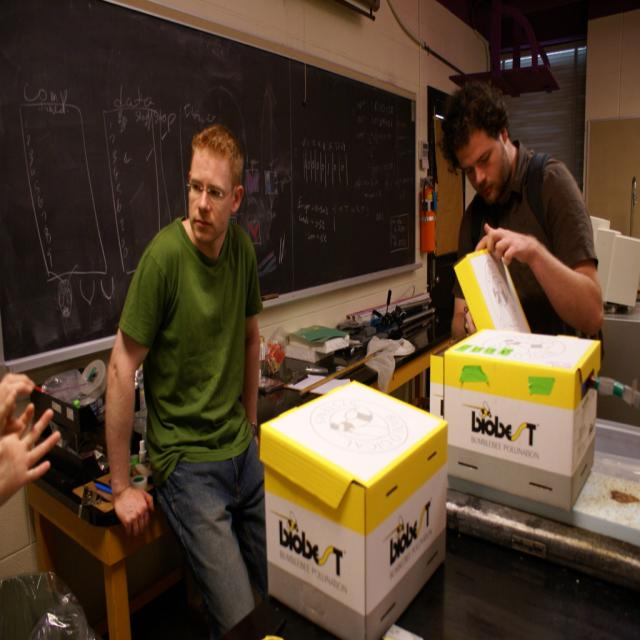Box: (256, 388, 458, 640), (416, 324, 604, 523)
